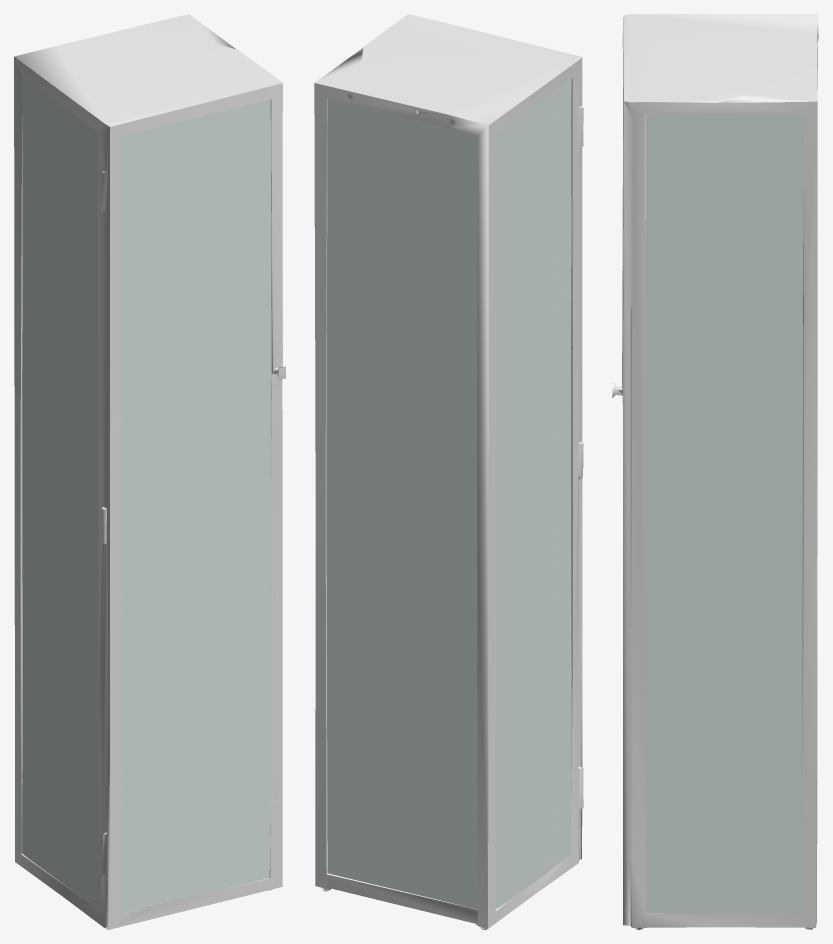
File: 08 - BLÅLIDEN Glass-door cabinet - white 35x32x151 cm.glb
The picture shows the model from 3 angles, left to right: view 1: azimuth 30°, elevation 25°; view 2: azimuth 150°, elevation 25°; view 3: azimuth 270°, elevation 25°; orthographic projection. The views are drawn at different scales.
Parts seen in each view (by area): view 1: model; view 2: model; view 3: model.
Part boxes in pixels (x1,y1,x2,y2): model: (14, 14, 285, 929); model: (314, 14, 583, 929); model: (612, 14, 818, 929).
Bounding box in the file's own units: 0.3486 × 1.51 × 0.3396.
Materials: 2 (2 with a texture image).
